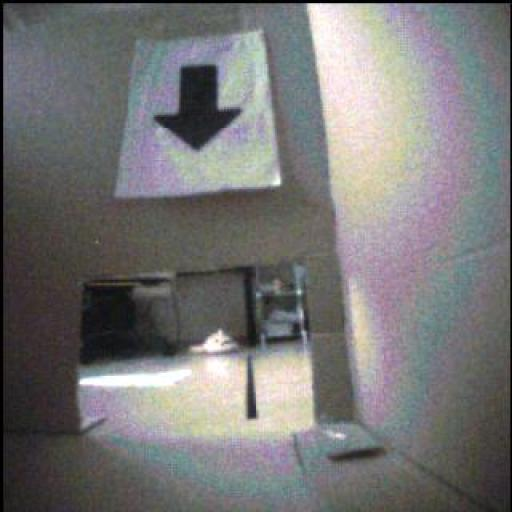arrow: (155, 67, 243, 152)
